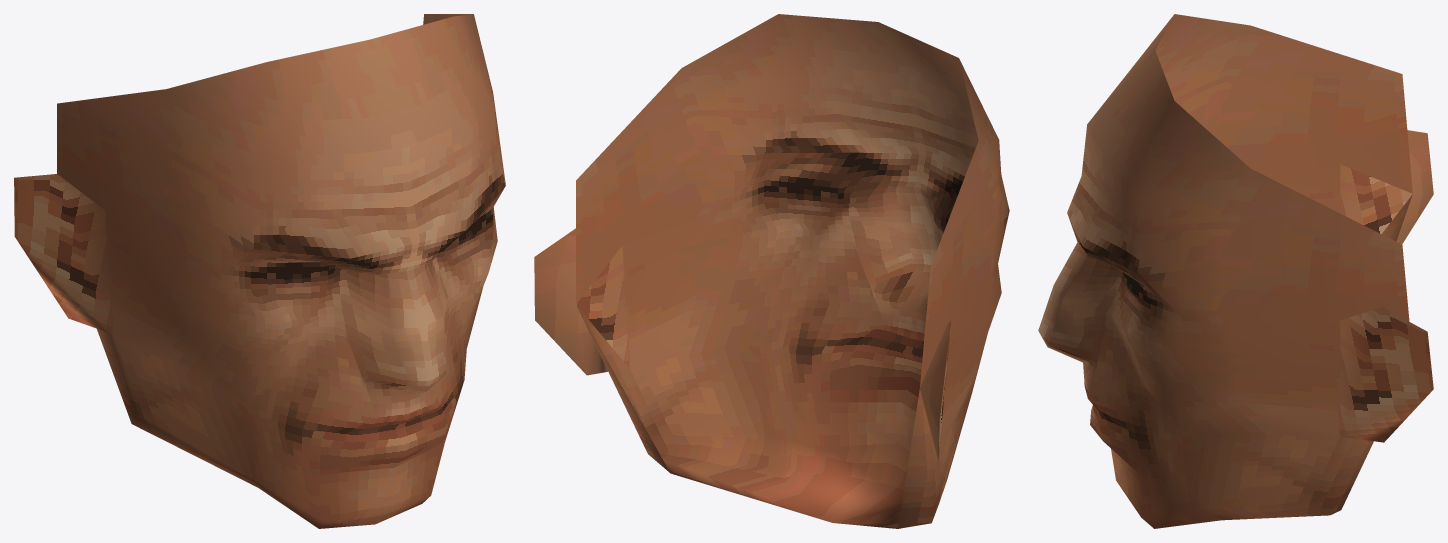
3 renders of one model, left to right at view 1: azimuth 30°, elevation 25°; view 2: azimuth 150°, elevation 25°; view 3: azimuth 270°, elevation 25°, orthographic. The views are drawn at different scales.
Size of the model in its own units: 17.18 by 18.61 by 14.47.
Materials: 1 (1 with a texture image).
